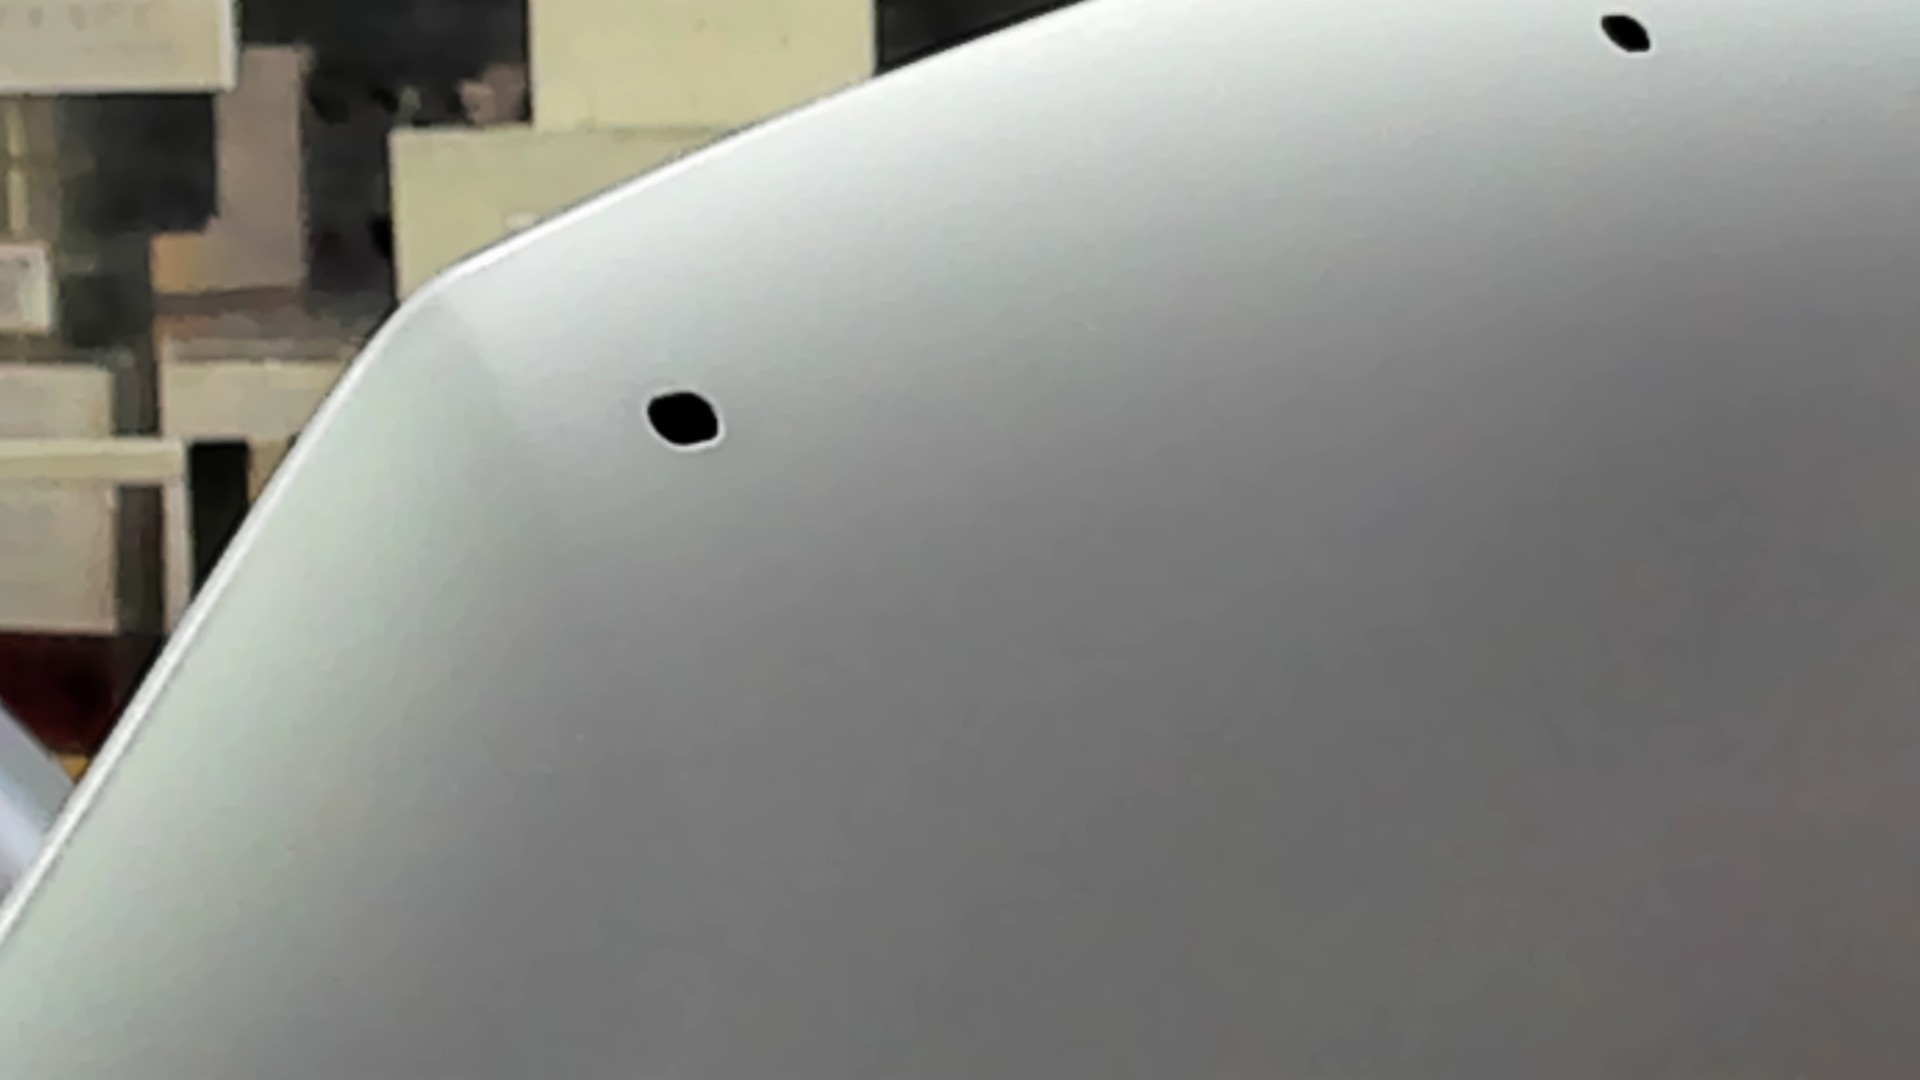amorfo: (642, 381, 728, 454), (1597, 8, 1654, 58)
